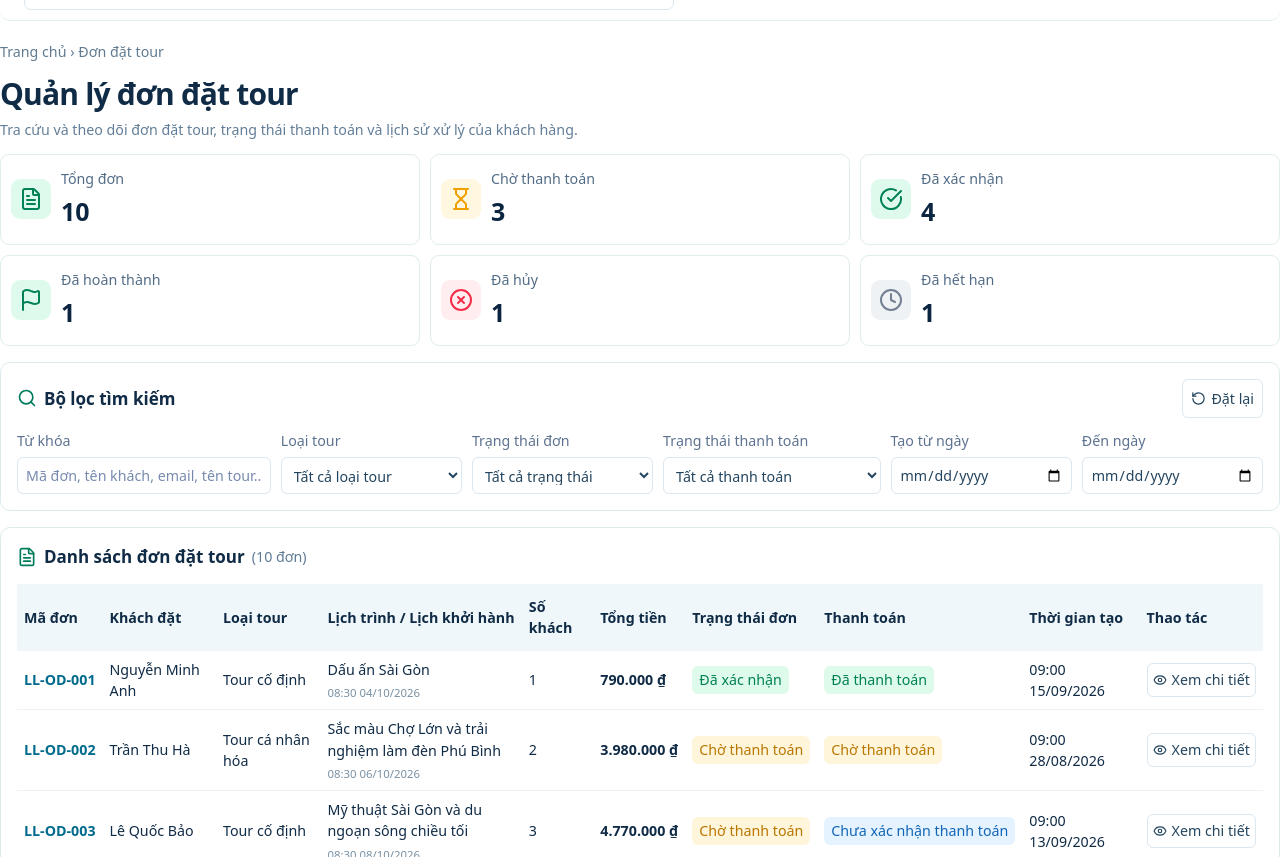
Test: shows review transaction and history without mutation controls
The image size is (1280, 857).
Click the button with aria-label "Xem chi tiết LL-OD-003" at (1201, 831), box [1147,814,1256,848]
(page scrolled)
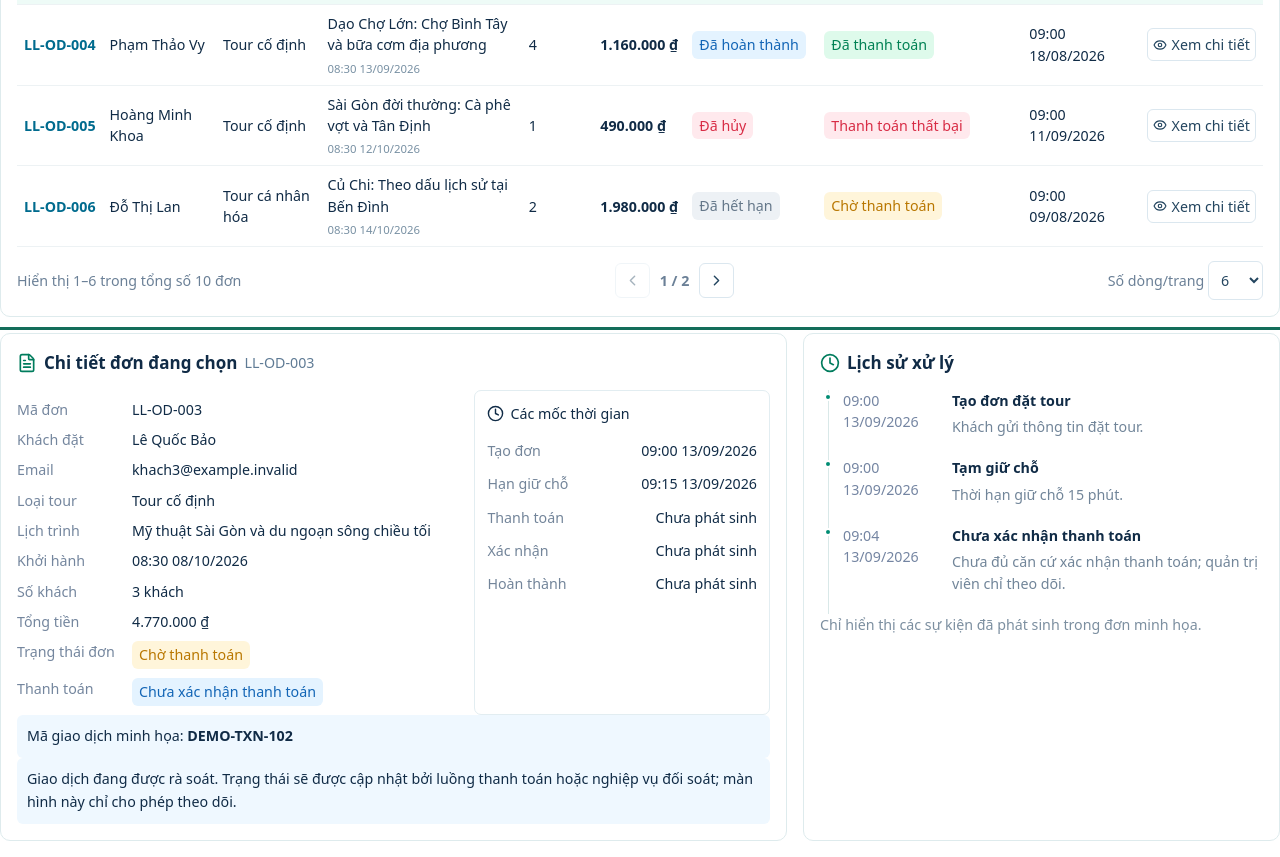
Expected: the heading "Lịch sử xử lý" is shown, [820,351,954,374]
Expected: the text "DEMO-TXN-102" is shown, [187,726,293,745]
Expected: the text "Trạng thái sẽ được cập nhật bởi luồng thanh toán" is shown, [27,769,753,811]
